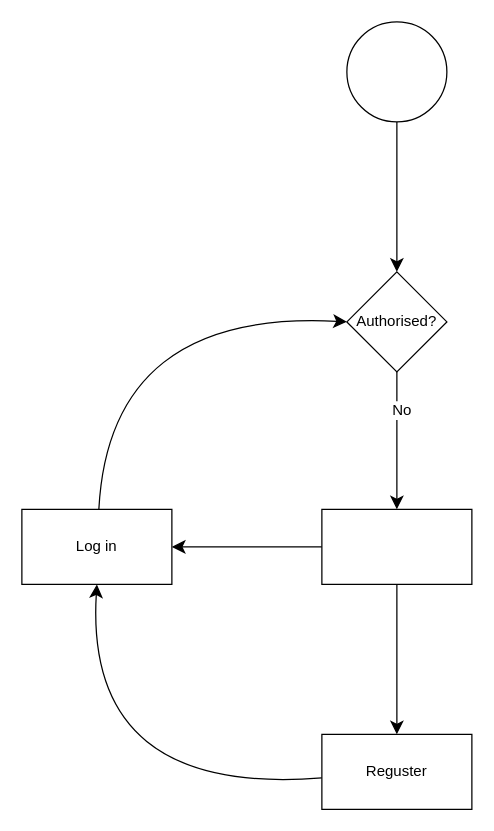
Image size: 494x831. Some labels were removed from this diagram. Each missing label, with the centre of its shape:
"Start" belongs at pixel 396 71.
"Welcome Log in Sign in" belongs at pixel 396 546.
